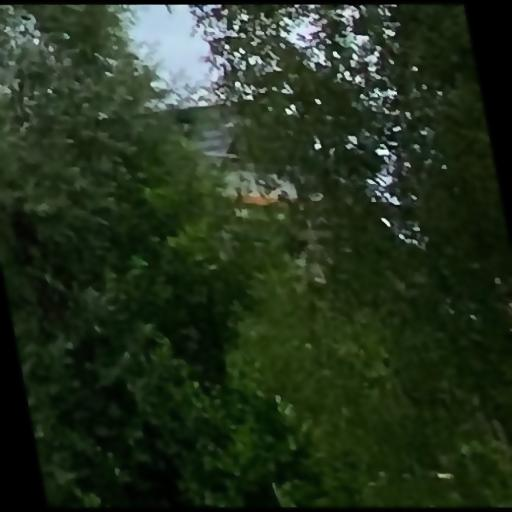tree: (164, 4, 511, 507), (1, 4, 332, 507)
